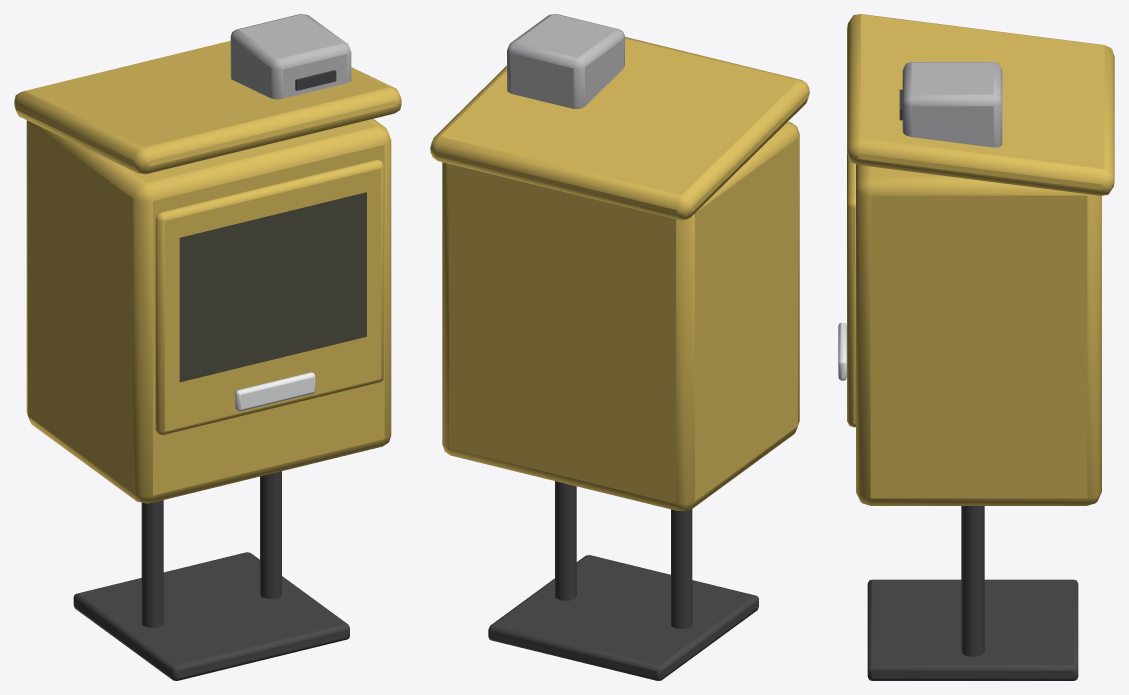
The model's file is newspaper_box.glb.
The picture shows the model from 3 angles, left to right: view 1: azimuth 30°, elevation 25°; view 2: azimuth 150°, elevation 25°; view 3: azimuth 270°, elevation 25°; orthographic projection. The views are drawn at different scales.
Parts seen in each view (by area): view 1: newspaper_box; view 2: newspaper_box; view 3: newspaper_box.
Boxes of the visible parts, x1=… form: newspaper_box: x1=14, y1=14, x2=401, y2=680; newspaper_box: x1=430, y1=14, x2=809, y2=680; newspaper_box: x1=838, y1=14, x2=1114, y2=680.
Bounding box in the file's own units: 0.54 × 1.12 × 0.4719.
